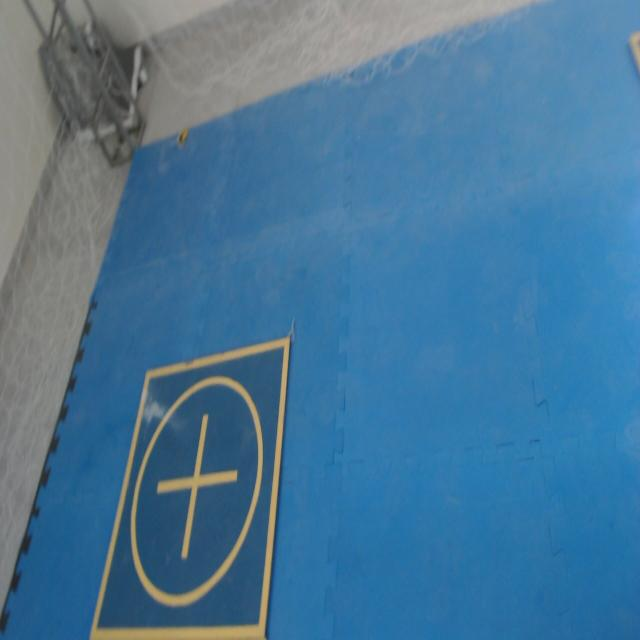base_pouso: (91, 338, 289, 639)
